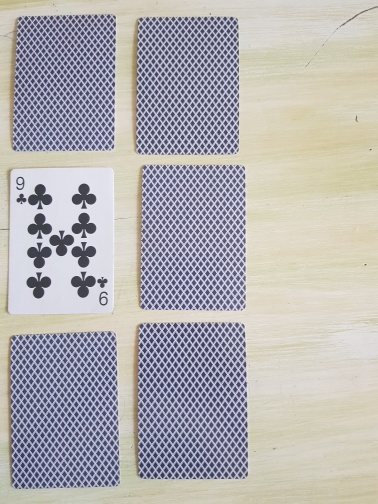nine: (6, 166, 116, 316)
